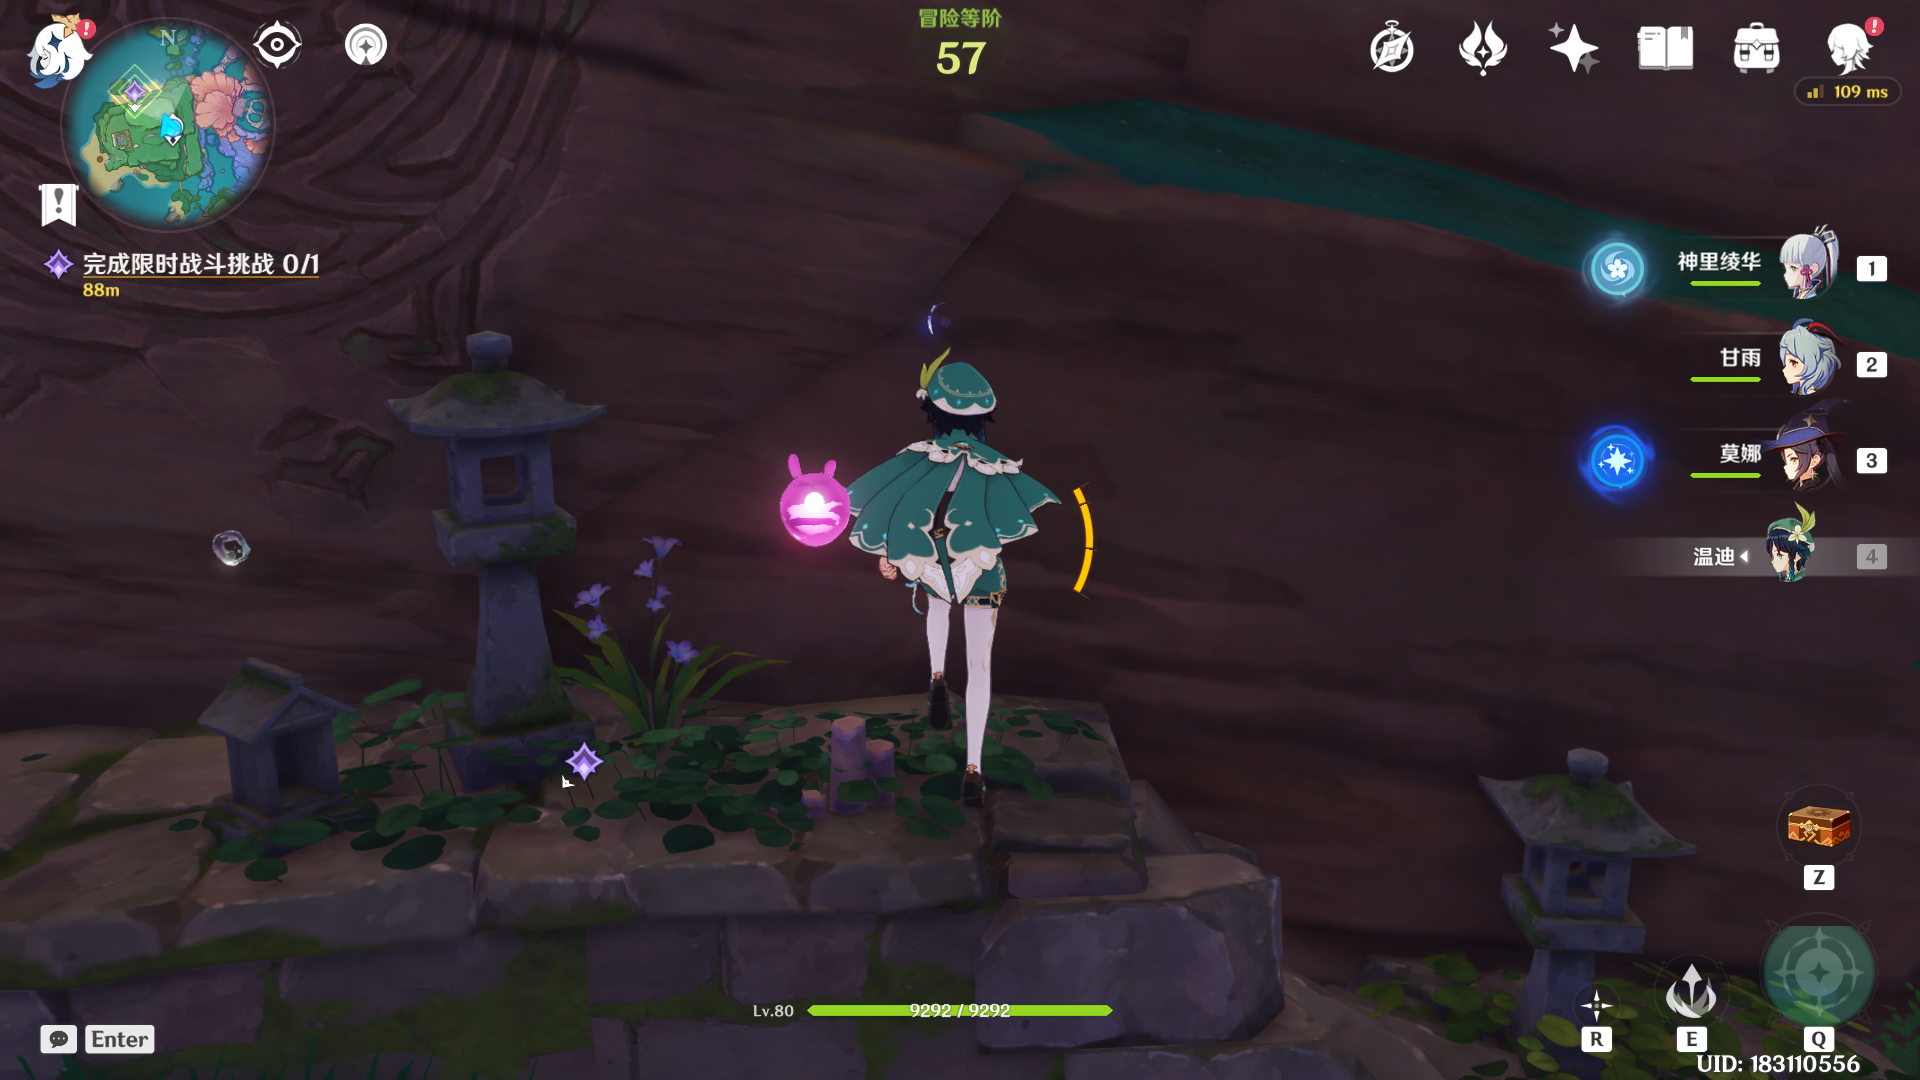character: (812, 363, 1106, 808)
